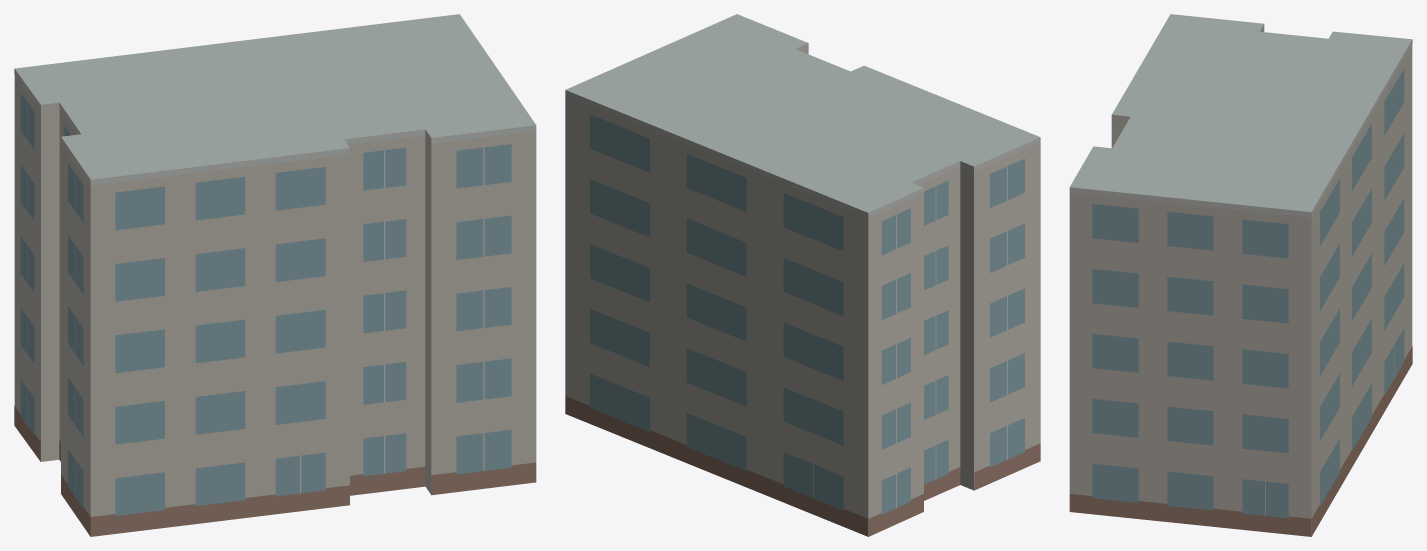
The model's file is survey-upis-32970907.glb.
3 views of the same model, side by side, from view 1: azimuth 30°, elevation 25°; view 2: azimuth 150°, elevation 25°; view 3: azimuth 270°, elevation 25° (orthographic). The views are drawn at different scales.
Parts seen in each view (by area): view 1: survey-upis-32970907.tmp; view 2: survey-upis-32970907.tmp; view 3: survey-upis-32970907.tmp.
Part boxes in pixels (left/top/right/bottom): survey-upis-32970907.tmp: left=14, top=14, right=536, bottom=536; survey-upis-32970907.tmp: left=565, top=14, right=1040, bottom=536; survey-upis-32970907.tmp: left=1069, top=14, right=1412, bottom=536.
Size of the model in its own units: 18.85 by 14.4 by 13.79.
